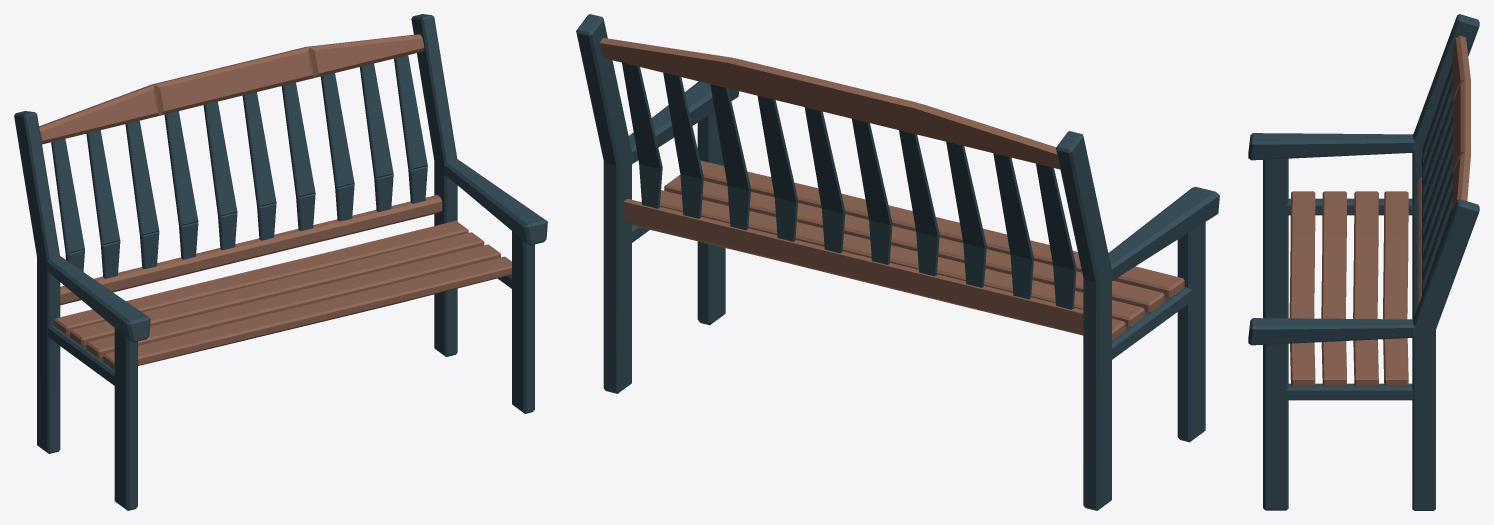
File: bench_a002.glb
The picture shows the model from 3 angles, left to right: view 1: azimuth 30°, elevation 25°; view 2: azimuth 150°, elevation 25°; view 3: azimuth 270°, elevation 25°; orthographic projection. The views are drawn at different scales.
Parts seen in each view (by area): view 1: bench_a002; view 2: bench_a002; view 3: bench_a002.
Boxes of the visible parts, x1,y1,x2,y2 form: bench_a002: [14, 14, 547, 510]; bench_a002: [576, 14, 1219, 510]; bench_a002: [1248, 14, 1479, 510].
Size of the model in its own units: 1.38 by 1.01 by 0.6873.
1 material, 1 textured.
